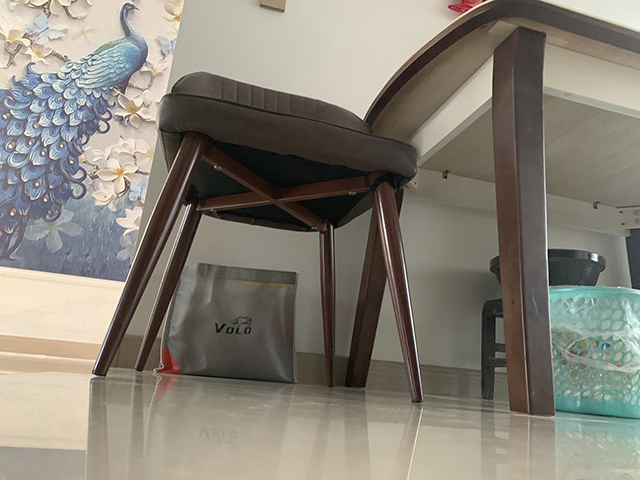stool: (80, 69, 427, 406)
table: (342, 1, 640, 417)
trashcan: (547, 283, 640, 418)
